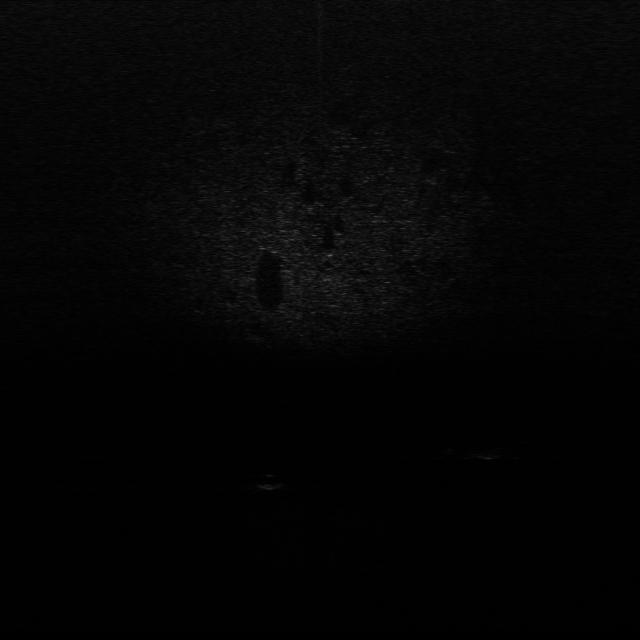ball: (250, 469, 290, 492)
human body: (452, 443, 517, 467)
